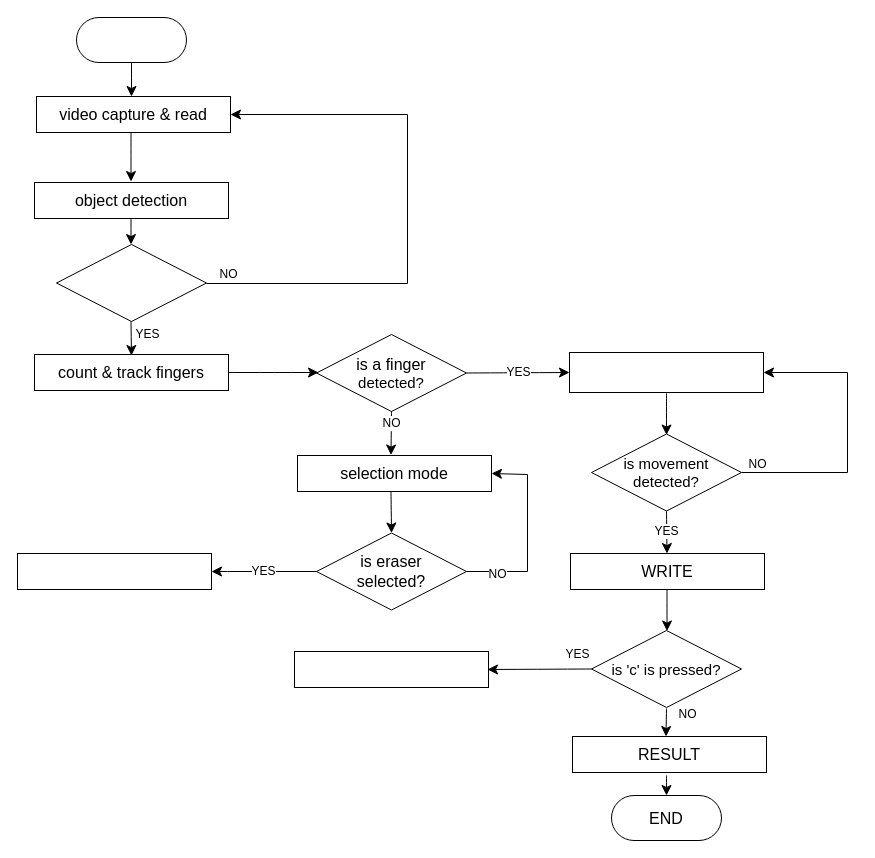
Some shapes in this 875 by 858 pixel diagram are drawn without their labels. The shapes that lost their labels are listed below. From the top down, each one's box as (x1, y1, x2, y2) in pixels, then its label:
(76, 16, 186, 62): START
(56, 244, 206, 322): is hand detected?
(568, 352, 764, 392): Pen active
(16, 552, 212, 590): ERASER
(294, 650, 488, 688): clear screen
